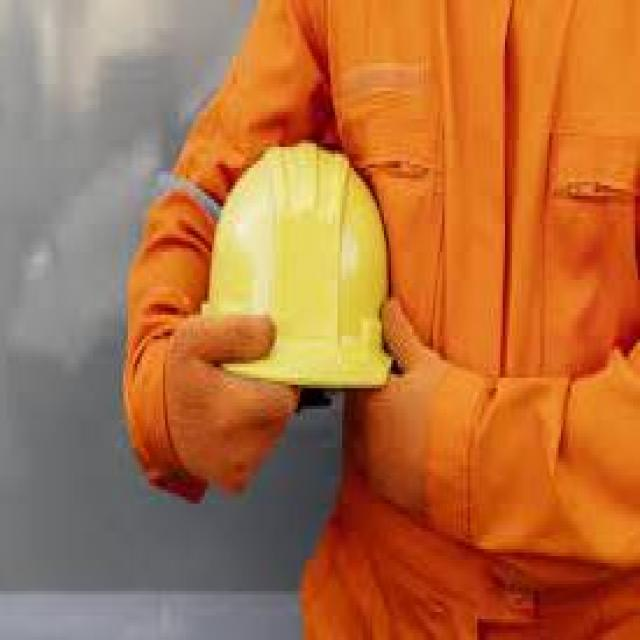Safety-Helmet: (195, 136, 405, 410)
